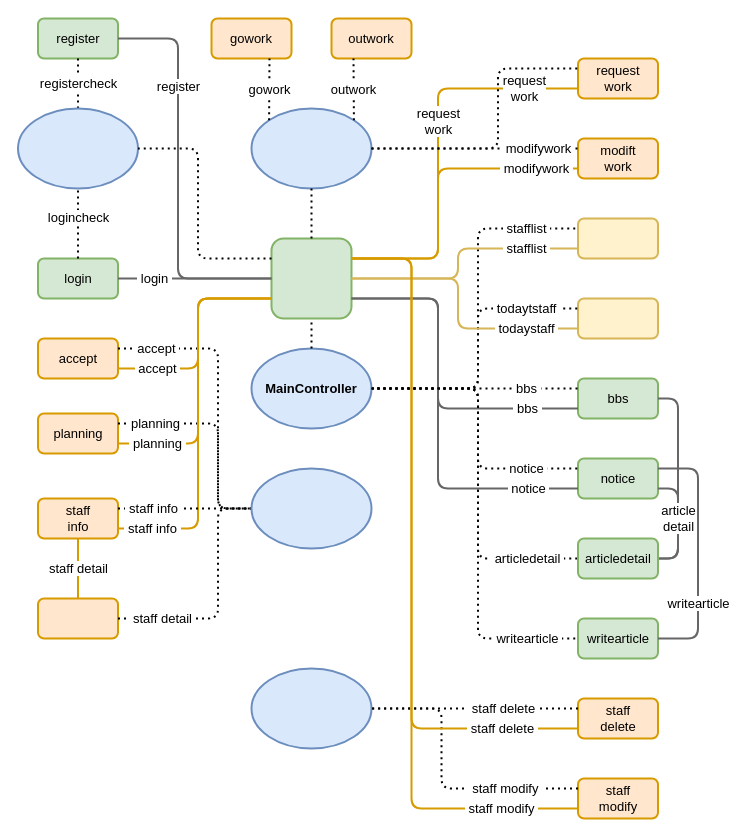
The diagram is 746 pixels wide and 836 high, and some of its shapes have lost their labels. The shapes that lost their labels are listed below. From the top down, each one's centre as x and y in pixels, then its label:
At point (77, 148): "UserController".
At point (311, 148): "staffController".
At point (617, 238): "staff list".
At point (311, 278): "guestMain".
At point (617, 318): "today staff".
At point (311, 508): "OwnerController".
At point (77, 618): "satff detail".
At point (311, 708): "AdminController".
